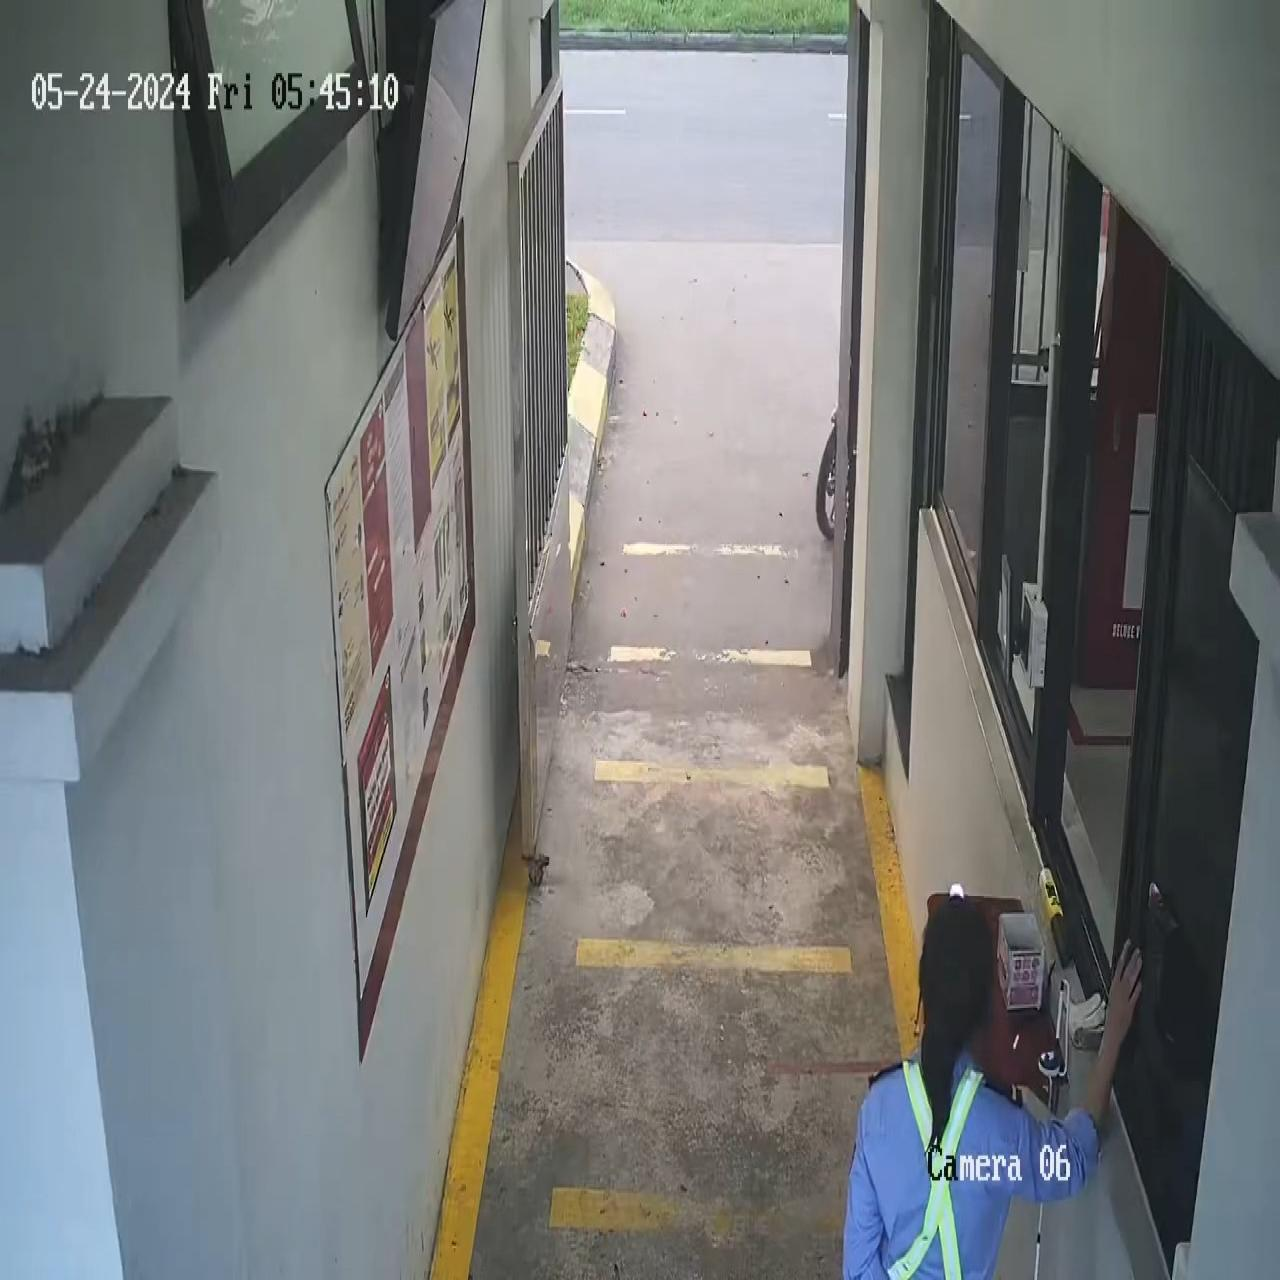breathalyzer: (1027, 857, 1083, 975)
guard: (840, 885, 1144, 1276)
